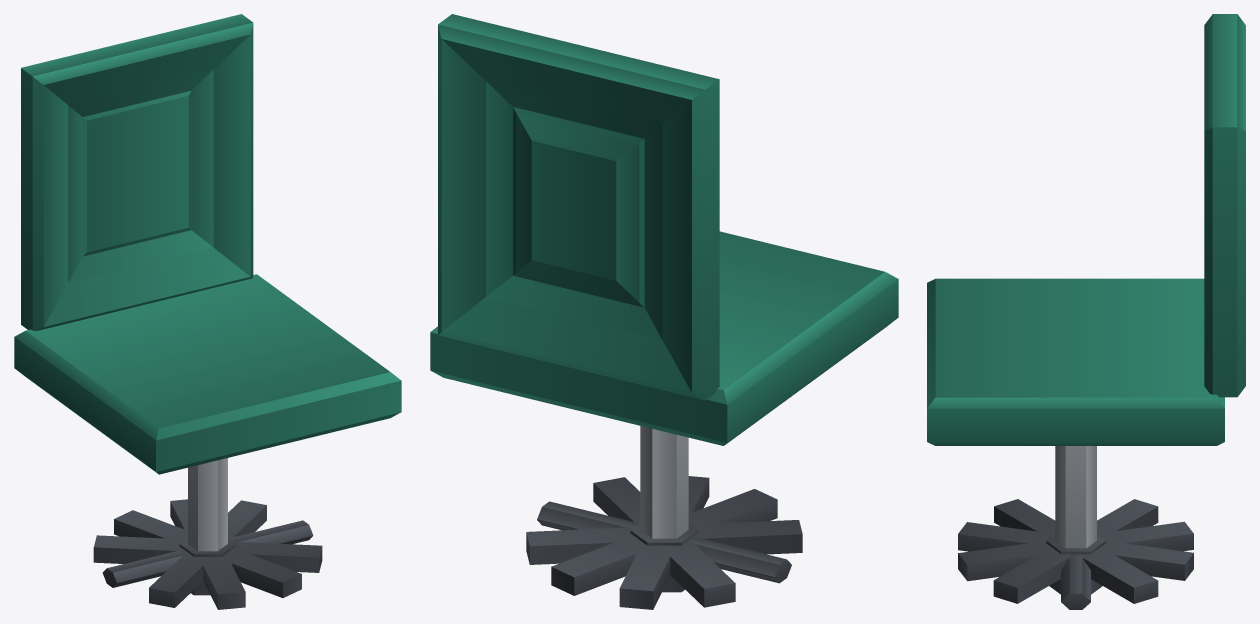
Rendered from dt_spinning_office_chair.fbx.
The picture shows the model from 3 angles, left to right: view 1: azimuth 30°, elevation 25°; view 2: azimuth 150°, elevation 25°; view 3: azimuth 270°, elevation 25°; orthographic projection. The views are drawn at different scales.
Parts seen in each view (by area): view 1: dt_spinning_office_chair; view 2: dt_spinning_office_chair; view 3: dt_spinning_office_chair.
Boxes of the visible parts, x1,y1,x2,y2 form: dt_spinning_office_chair: (14, 14, 401, 609); dt_spinning_office_chair: (430, 14, 898, 609); dt_spinning_office_chair: (927, 14, 1245, 609).
Size of the model in its own units: 179 by 340 by 191.
